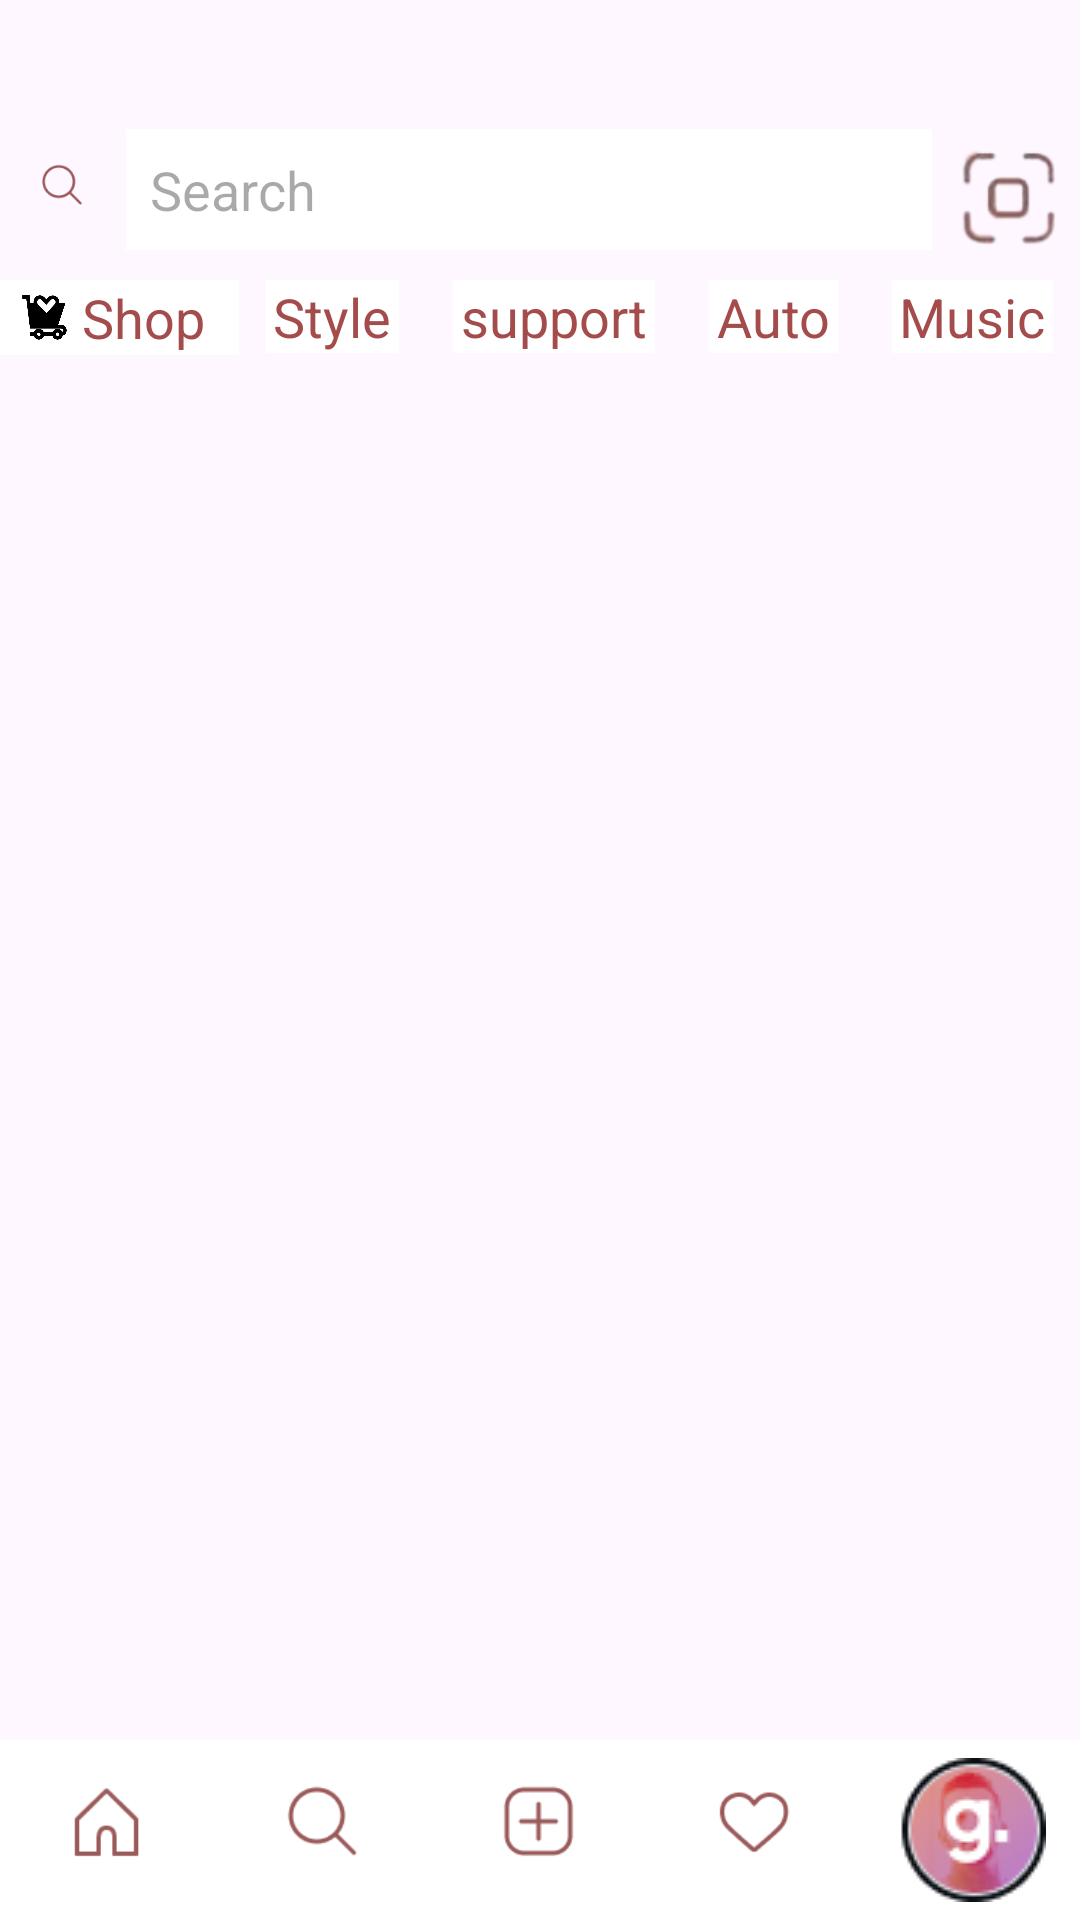

Where to tap for icons on this 1080w x 1920h app screen, as point (x, y):
carticon: point (44, 317)
hearticon: point (754, 1822)
homeicon: point (106, 1822)
plusinboxicon: point (538, 1821)
profileicon: point (973, 1830)
searchicon: point (322, 1821)
squarewithsquare: point (1009, 198)
